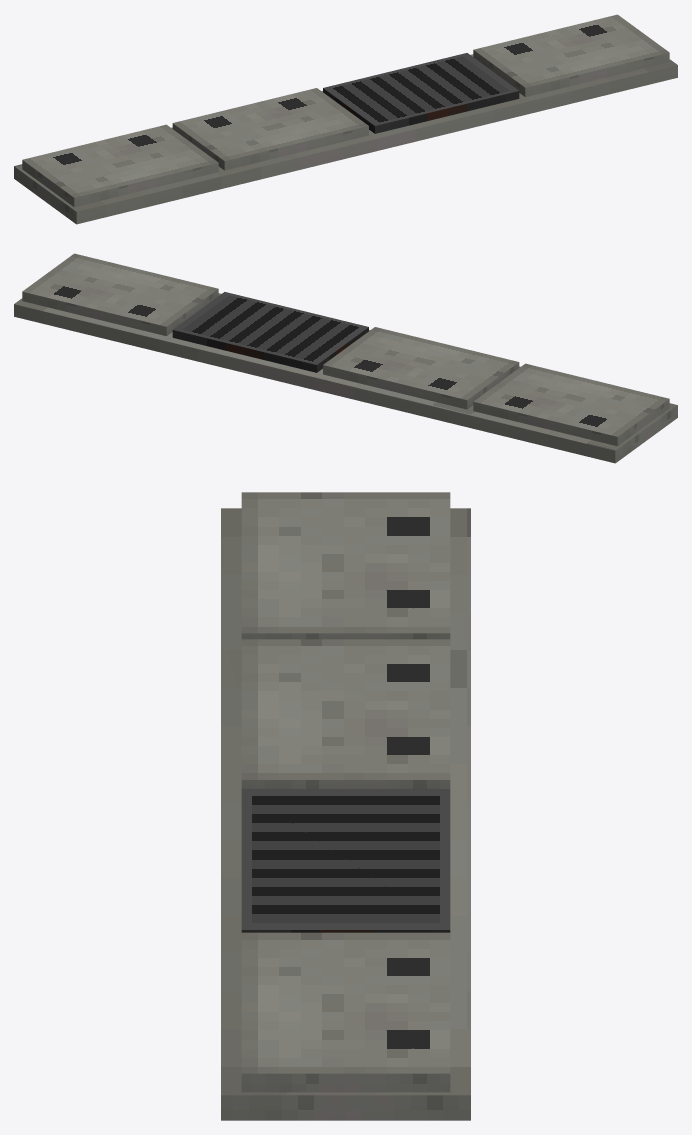
File: gutter.glb
3 views of the same model, one above another, from view 1: azimuth 30°, elevation 25°; view 2: azimuth 150°, elevation 25°; view 3: azimuth 270°, elevation 25° (orthographic). The views are drawn at different scales.
Visible parts, largest first — view 1: gutter; view 2: gutter; view 3: gutter.
Part boxes in pixels (x1,y1,x2,y2): gutter: [14, 14, 677, 224]; gutter: [14, 253, 677, 463]; gutter: [221, 492, 470, 1120].
Bounding box in the file's own units: 2 × 0.07 × 0.36.
Materials: 1 (1 with a texture image).
